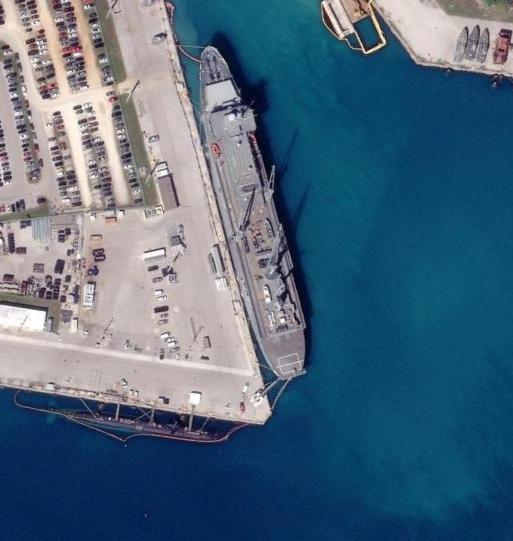supply: (189, 33, 333, 391)
